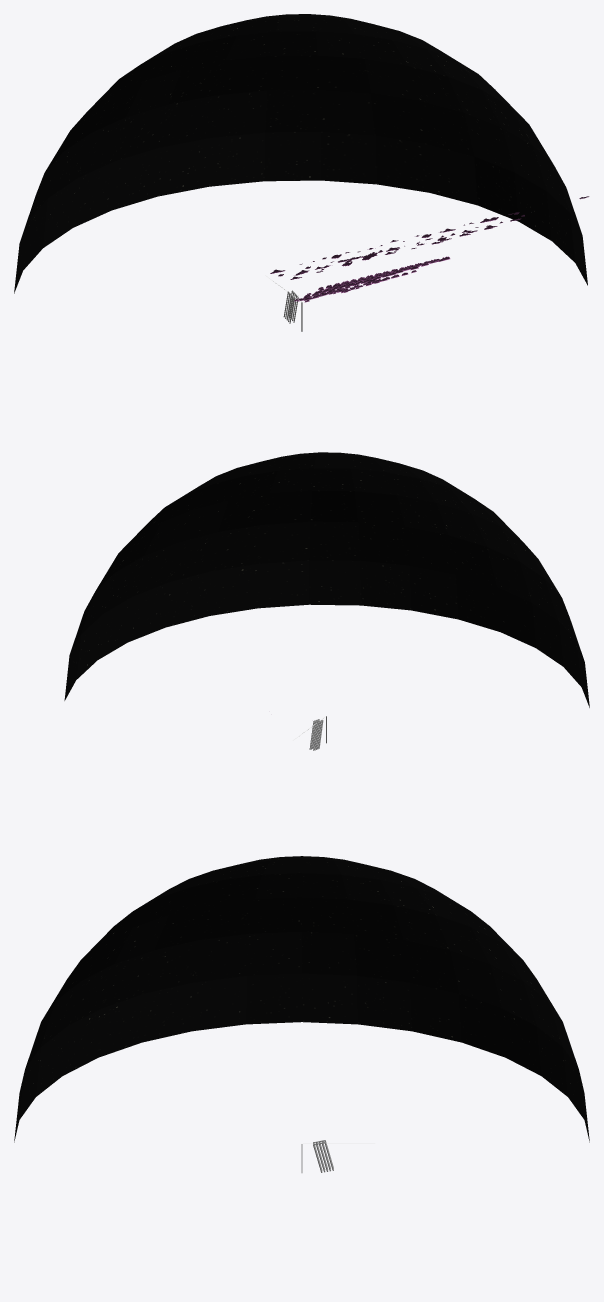
Rendered from bts.glb.
3 views of the same model, one above another, from view 1: azimuth 30°, elevation 25°; view 2: azimuth 150°, elevation 25°; view 3: azimuth 270°, elevation 25° (orthographic). The views are drawn at different scales.
Parts seen in each view (by area): view 1: StarHemisphere, OpaqueGeometry (×2); view 2: StarHemisphere; view 3: StarHemisphere.
Boxes of the visible parts, <box> form: StarHemisphere: <box>14,14,587,293</box>; OpaqueGeometry (×2): <box>270,196,589,302</box>; StarHemisphere: <box>64,452,589,707</box>; StarHemisphere: <box>14,856,589,1142</box>.
Size of what is drawn, in the model's own units: 2258 by 1113 by 2000.
13 materials, 5 textured.
